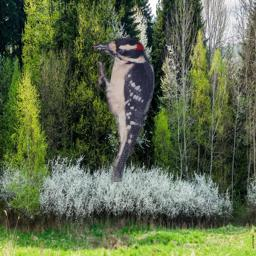Woodpecker: (92, 34, 157, 182)
